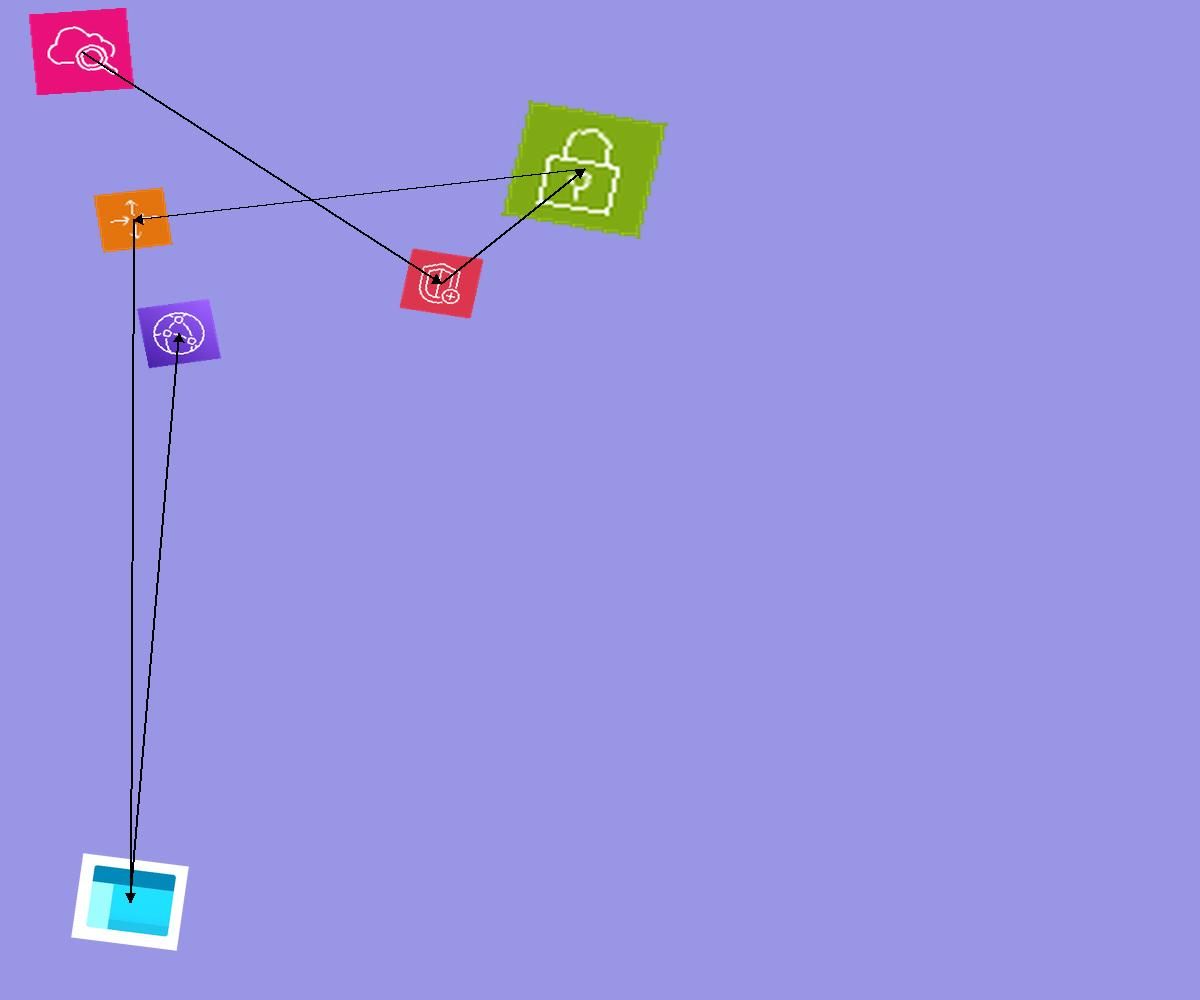AWS-CloudFront: (136, 298, 222, 369)
AWS-CloudWatch: (28, 7, 135, 96)
AWS-Public-subnet: (501, 100, 668, 239)
AWS-Scaling-group: (93, 187, 173, 253)
AWS-Shield: (399, 248, 484, 319)
Azure_management-portal: (71, 853, 189, 951)
